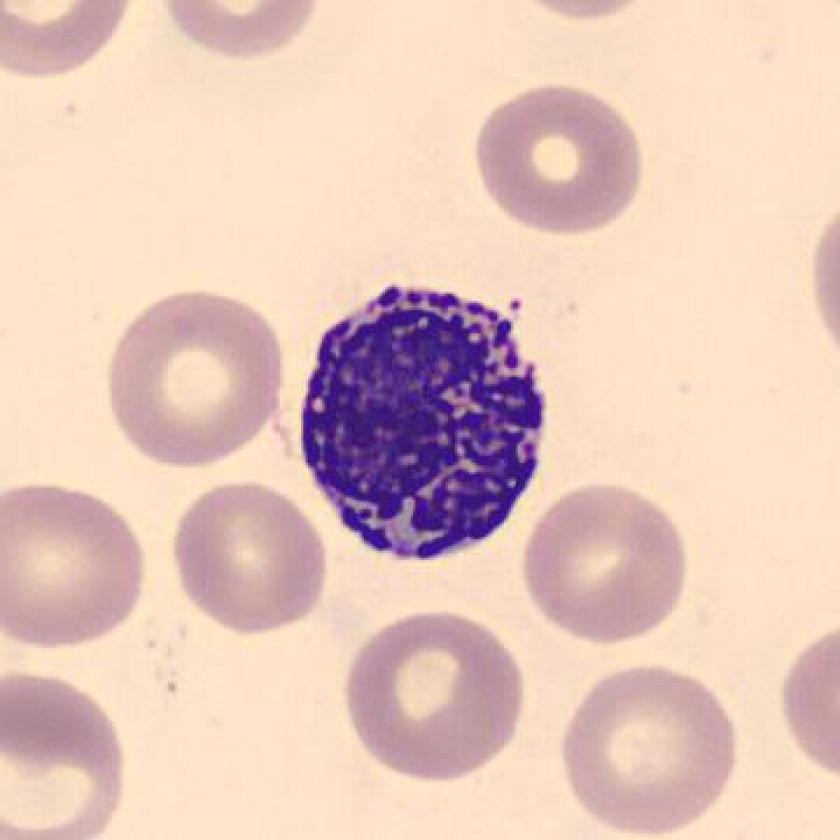basophil: (291, 274, 557, 573)
